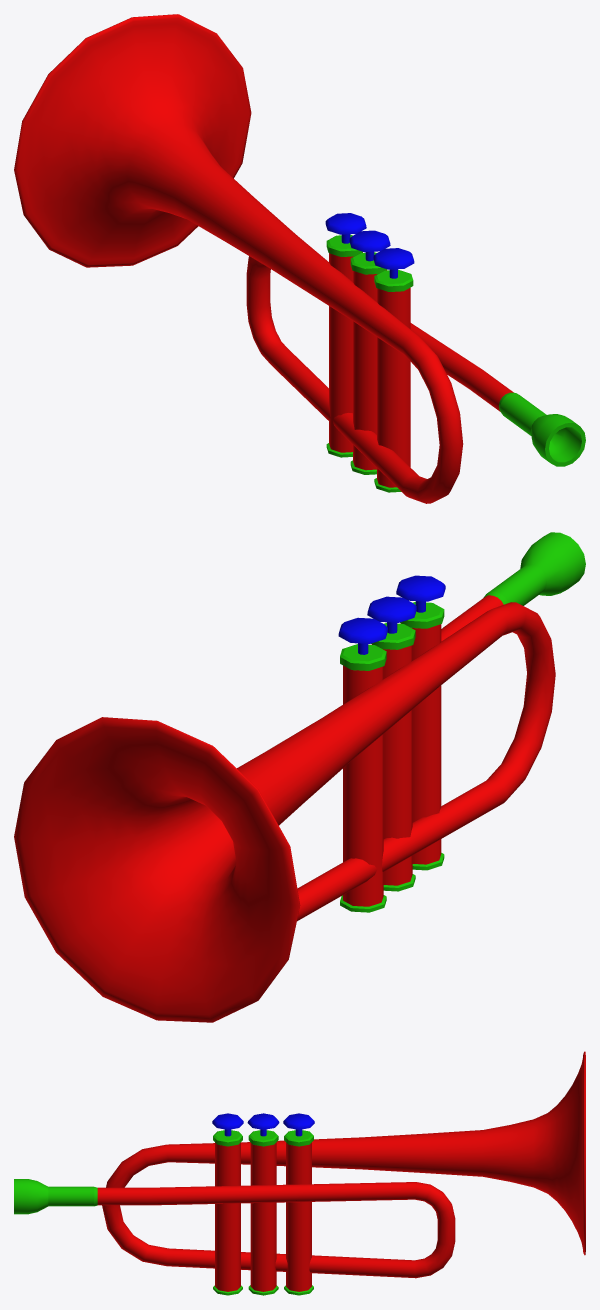
The model's file is Instrument3.fbx.
3 renders of one model, top to bottom at view 1: azimuth 30°, elevation 25°; view 2: azimuth 150°, elevation 25°; view 3: azimuth 270°, elevation 25°, orthographic. The views are drawn at different scales.
Parts seen in each view (by area): view 1: Instrument3; view 2: Instrument3; view 3: Instrument3.
Part boxes in pixels (bbox=[...]): Instrument3: bbox=[14, 14, 585, 503]; Instrument3: bbox=[14, 532, 585, 1022]; Instrument3: bbox=[14, 1051, 585, 1295].
Bounding box in the file's own units: 1.67 × 2 × 4.69.
